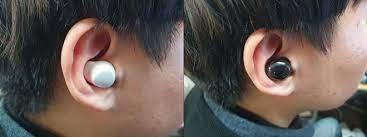earphone: (83, 55, 119, 89), (265, 55, 297, 83)
